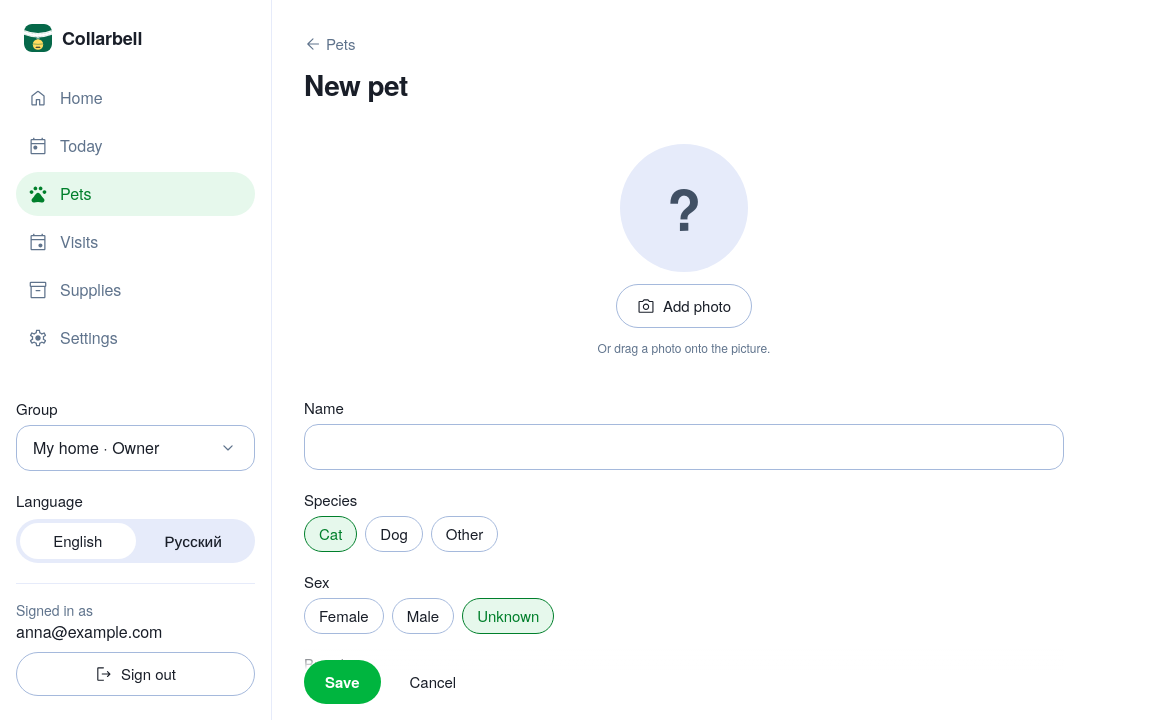
Scenario: a pet saving while the person moves (review P1) › holds a group switch until the new pet is saved, then opens it in the group it was saved to
Step 1. Type "Luna" into the field labelled "Name" → (684, 447), box [304,424,1064,470]
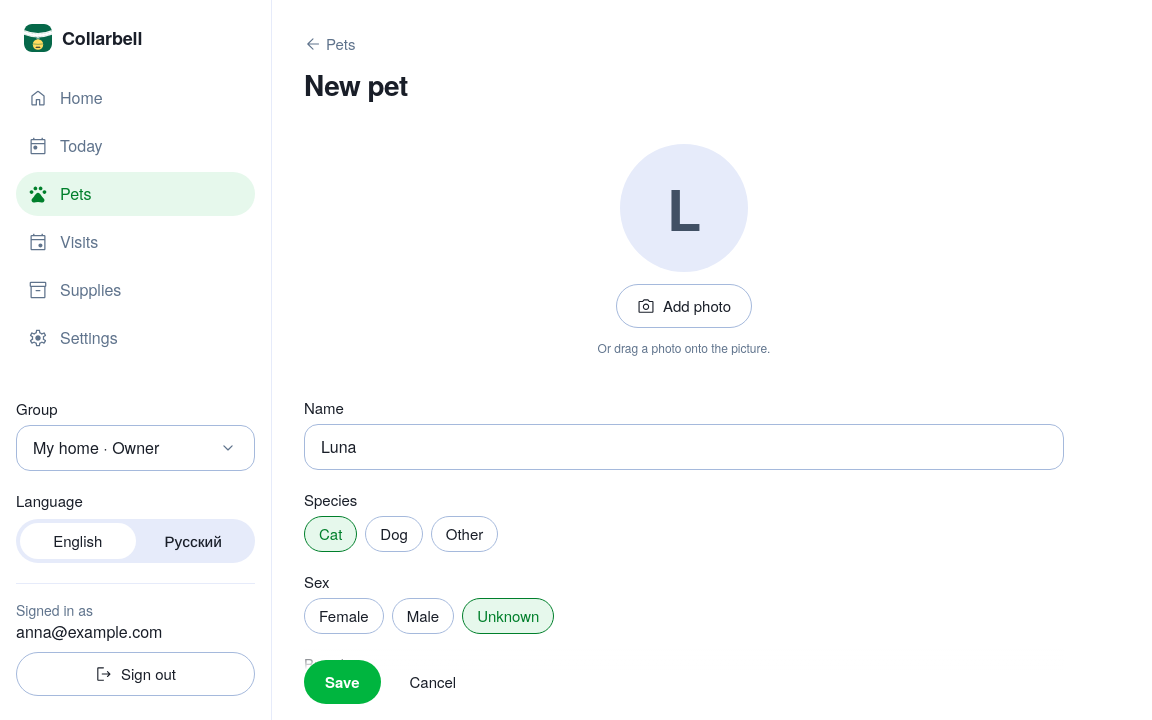
Step 2. Click the button "Save" → (342, 682), box [304,660,380,704]
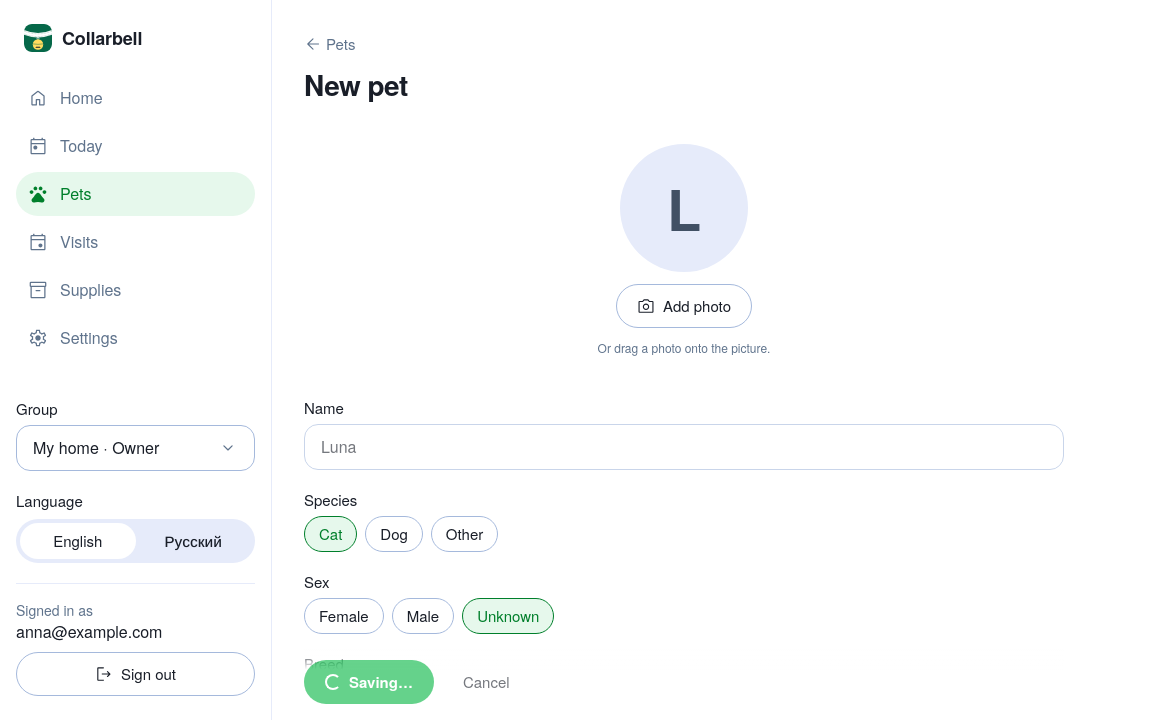
# While it saves, "Office" is picked in the sidebar: the move waits for the save.
Step 3. Select "Office · Helper" in the dropdown labelled "Group" → (136, 448), box [16,425,255,471]
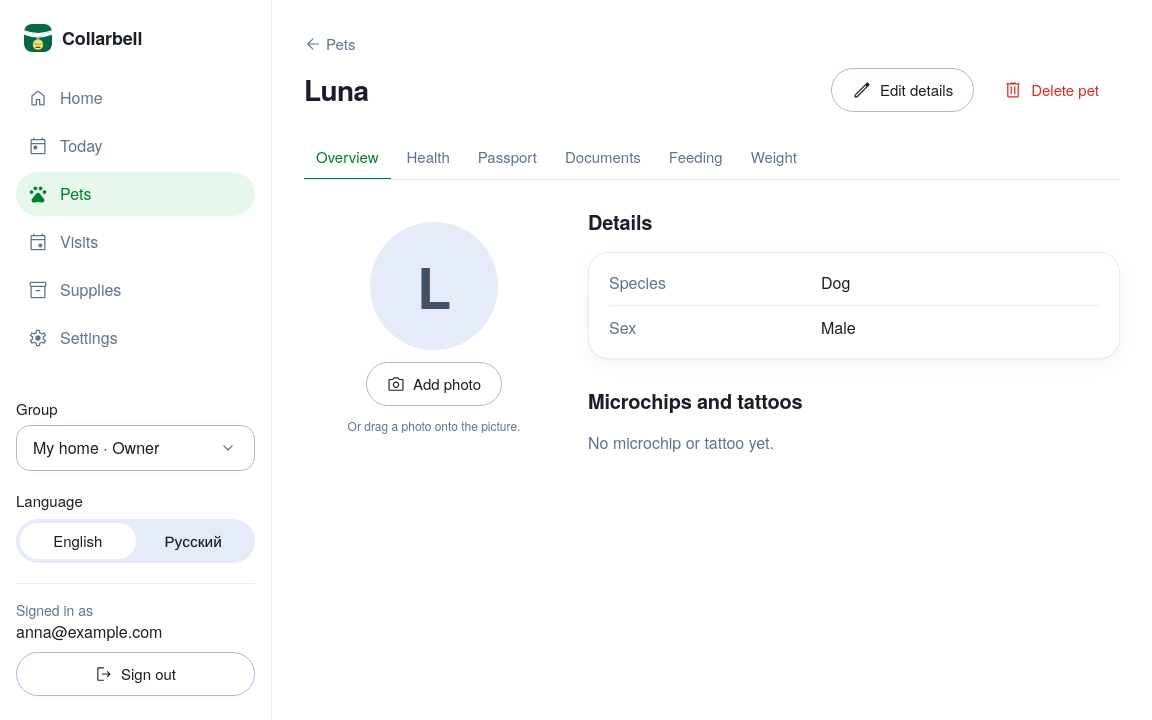
expect the heading "Luna" is shown: met, box [304,73,368,107]
